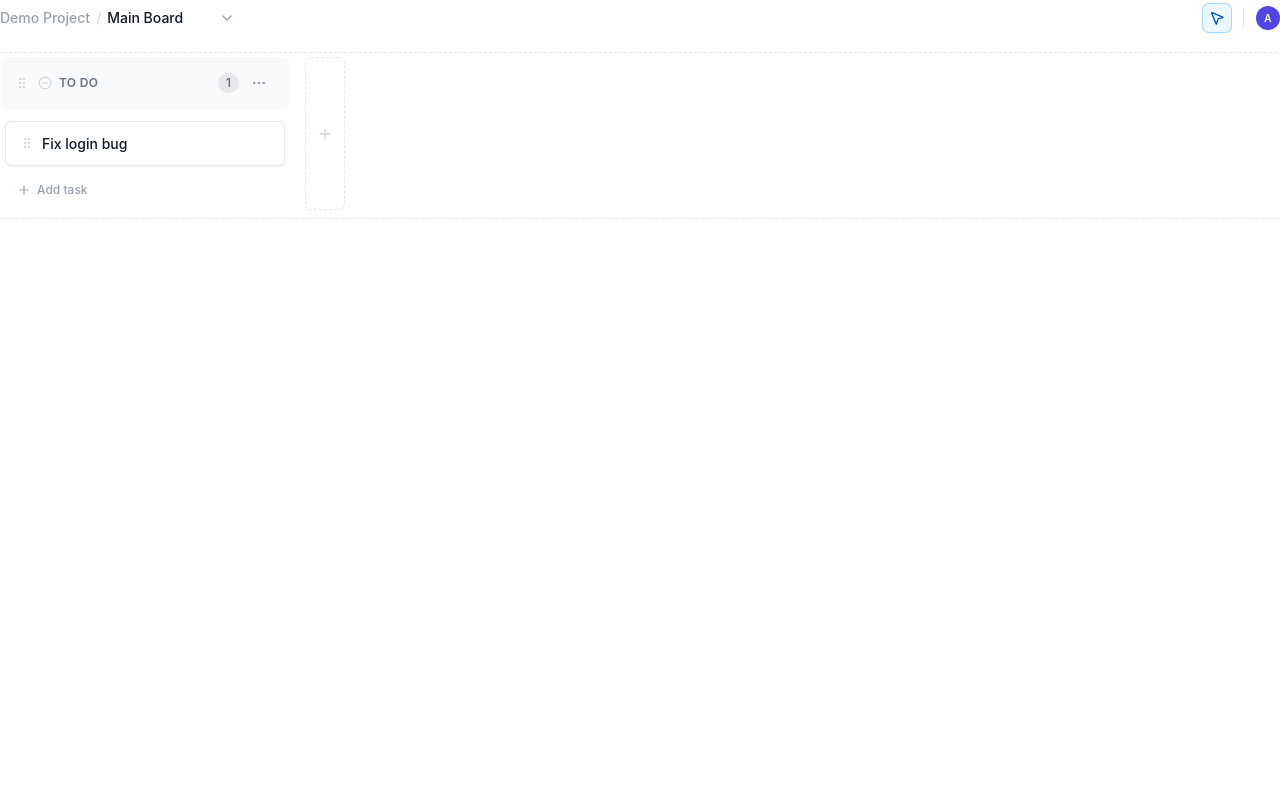
Scenario: KanbanBoard › opens the task detail panel when a card is clicked
Click the button "Fix login bug": (85, 144) x1=5 y1=121 x2=285 y2=166
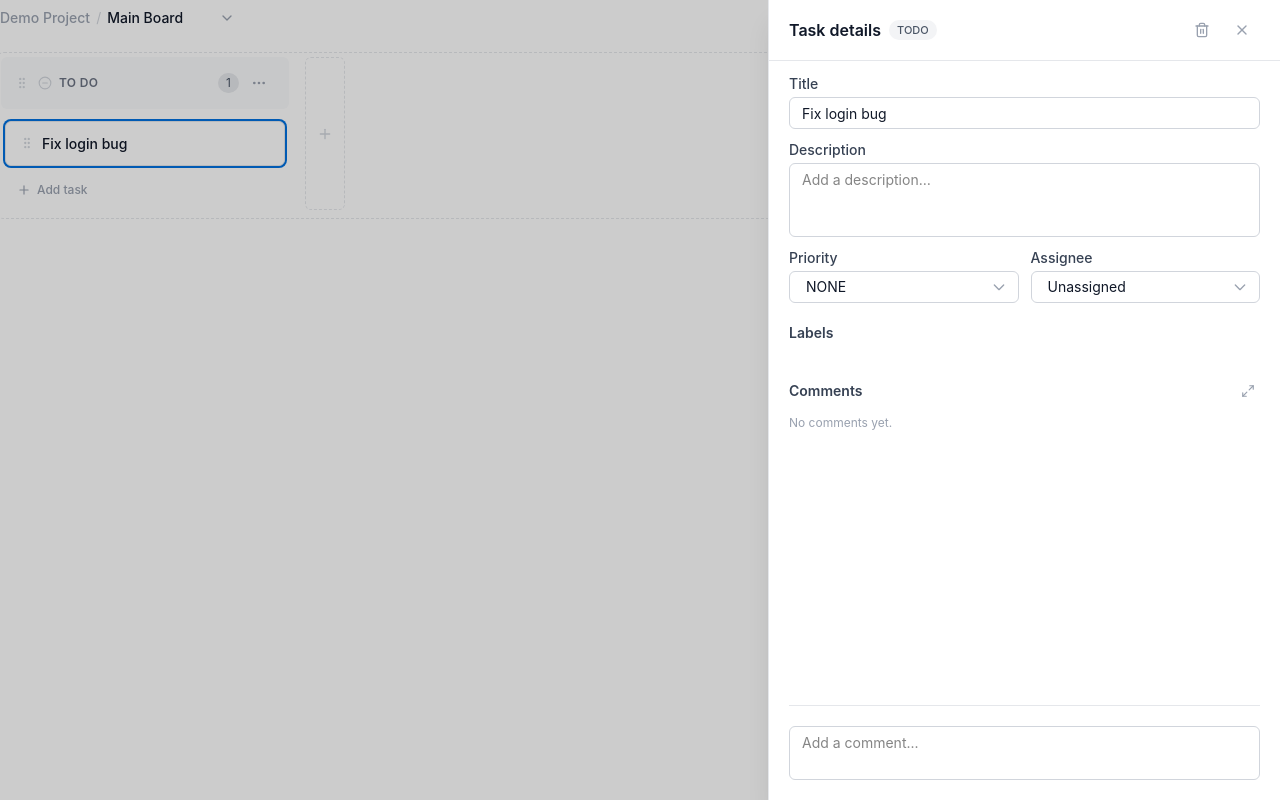
Expected: the dialog "Task details" is shown, x1=768 y1=0 x2=1279 y2=799
